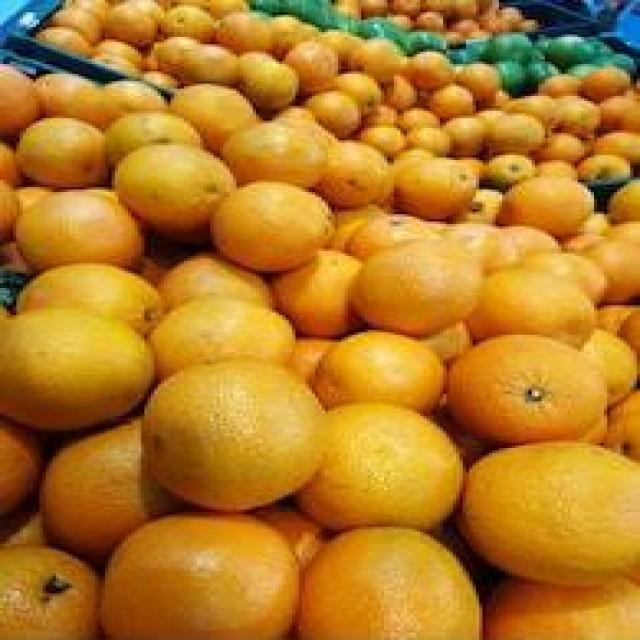Orange: (146, 359, 322, 508), (465, 440, 640, 588), (112, 513, 298, 640), (298, 527, 478, 640), (0, 310, 151, 426), (325, 403, 456, 532), (451, 337, 610, 436), (346, 238, 475, 332), (206, 183, 334, 267), (154, 296, 300, 369), (12, 185, 137, 268), (322, 329, 448, 406), (121, 145, 223, 234), (14, 261, 159, 317), (479, 267, 591, 339), (227, 122, 331, 185), (14, 117, 100, 185), (500, 174, 596, 232), (394, 157, 477, 215), (327, 136, 387, 207), (178, 80, 246, 134)
